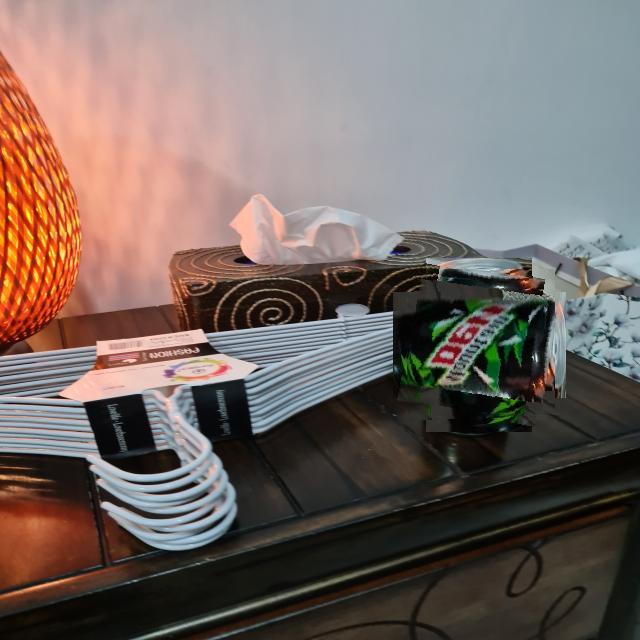recyclable: (403, 269, 555, 421)
